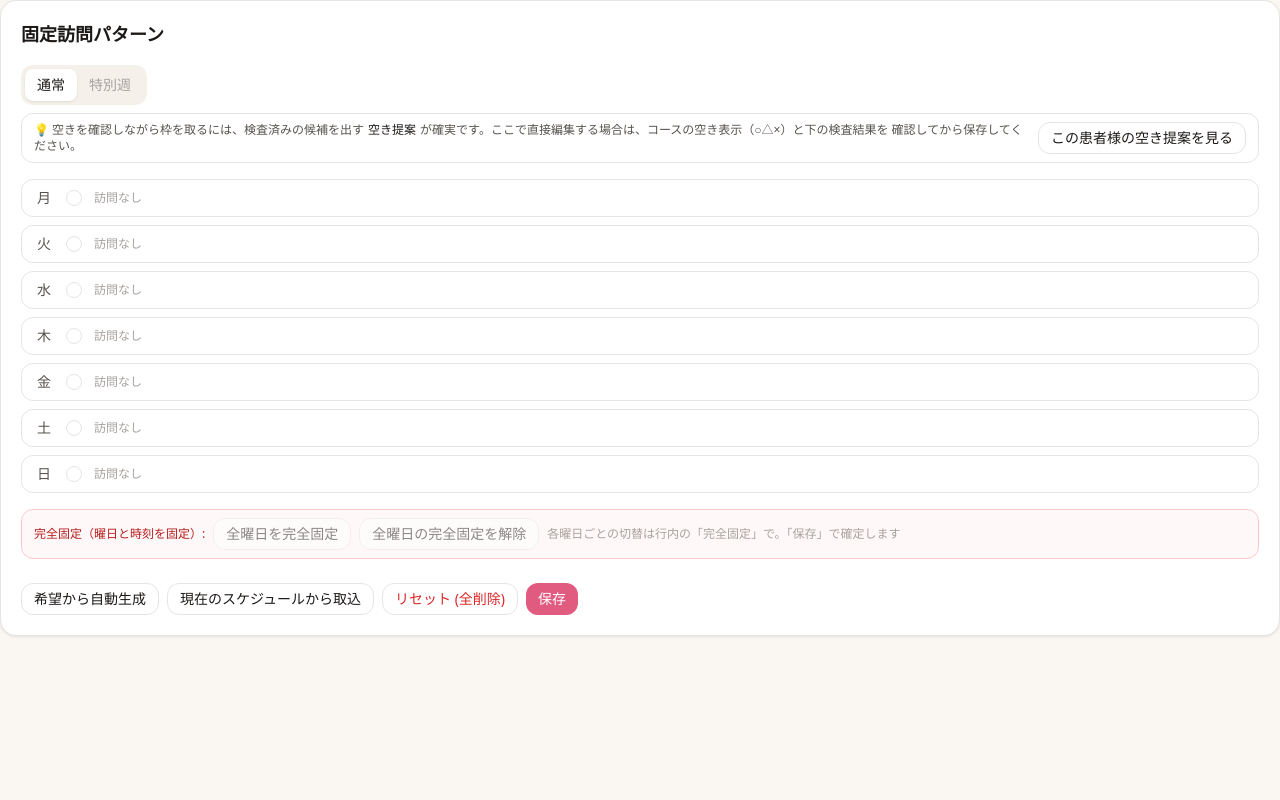
Test: PatientFixedVisitsPanel › 7. (W22) 曜日 ON にしたときコース dropdown が表示される
The image size is (1280, 800).
月曜を ON にする
Click the checkbox named "月曜日 訪問あり".
click(74, 198)  # box [66,190,82,206]
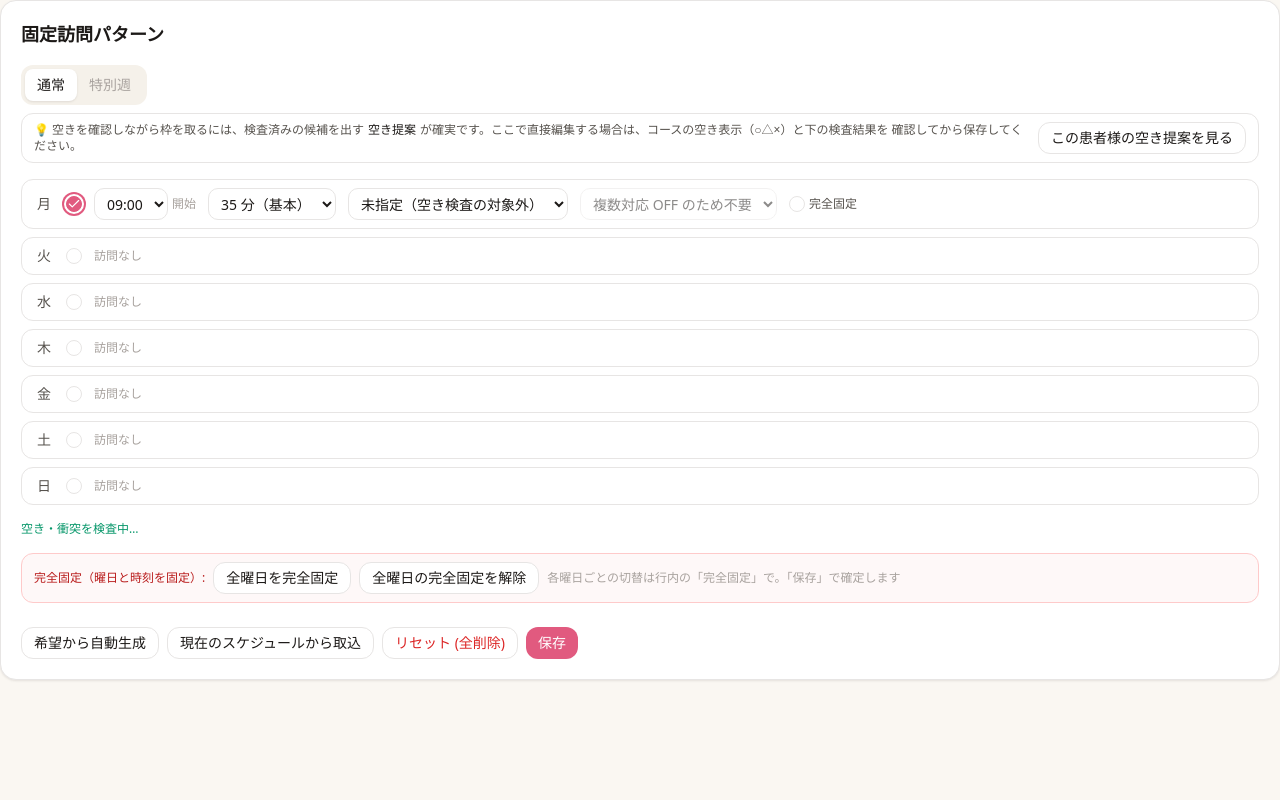
Expected: the dropdown named "月 コース" is shown, [348,188,568,220]
